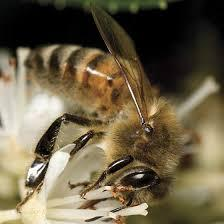Apis-mellifera-scutellata: (22, 3, 184, 224)
